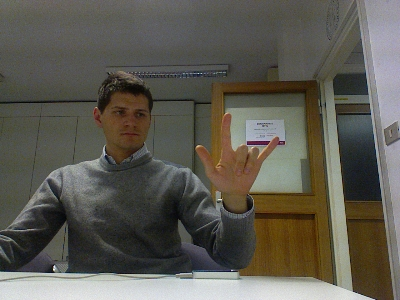我爱你: (193, 110, 281, 200)
